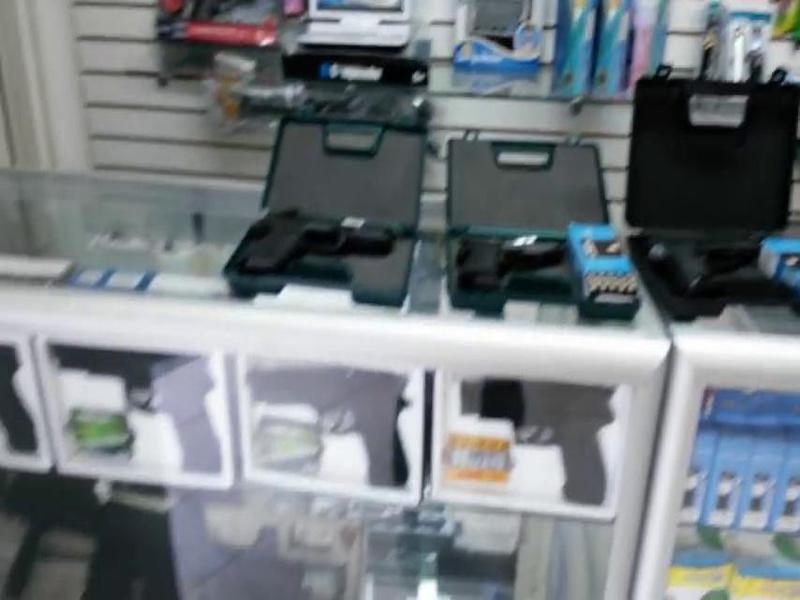Pistola: (226, 197, 411, 310), (639, 220, 775, 324), (449, 212, 573, 323)
